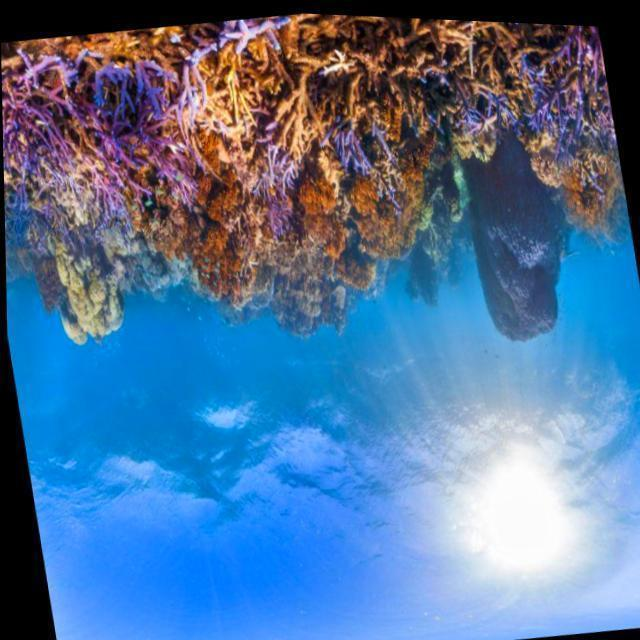Dead Coral: (313, 11, 447, 138), (455, 16, 525, 94)
